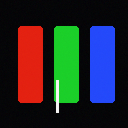4 line_v: (56, 80, 58, 112)
